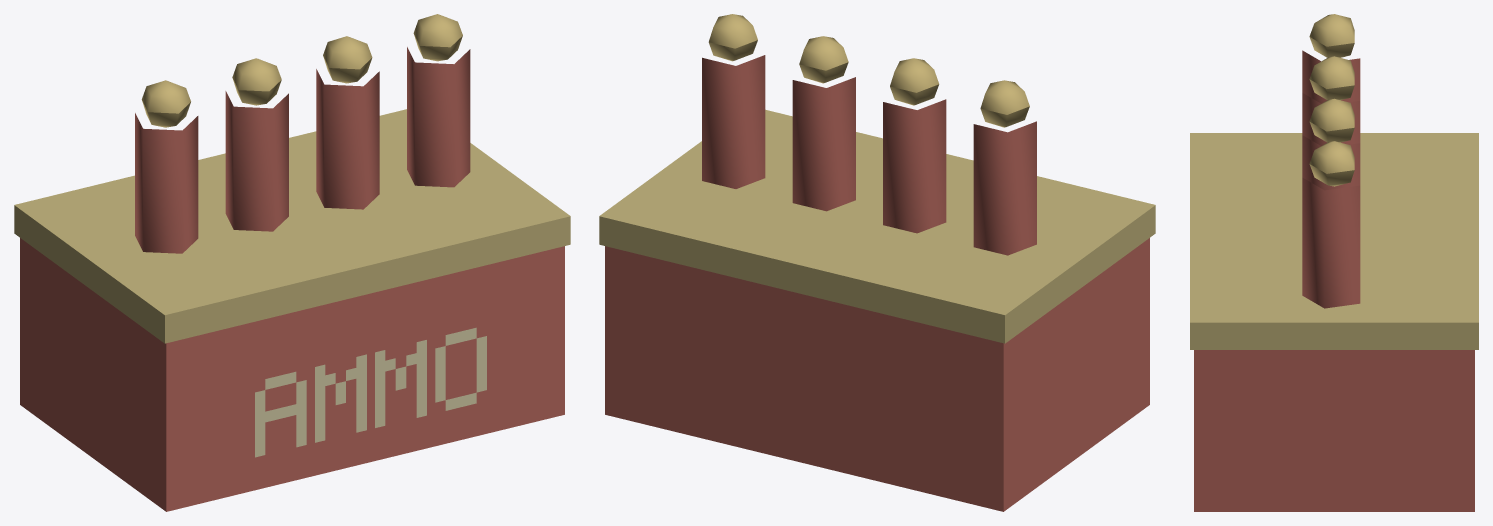
File: caixa_cartuchos.glb
3 views of the same model, side by side, from view 1: azimuth 30°, elevation 25°; view 2: azimuth 150°, elevation 25°; view 3: azimuth 270°, elevation 25° (orthographic). The views are drawn at different scales.
Parts seen in each view (by area): view 1: caixa_cartuchos; view 2: caixa_cartuchos; view 3: caixa_cartuchos.
Part boxes in pixels (bbox=[...]): caixa_cartuchos: bbox=[14, 14, 570, 511]; caixa_cartuchos: bbox=[599, 14, 1155, 511]; caixa_cartuchos: bbox=[1190, 14, 1478, 511].
Bounding box in the file's own units: 0.224 × 0.19 × 0.147.
